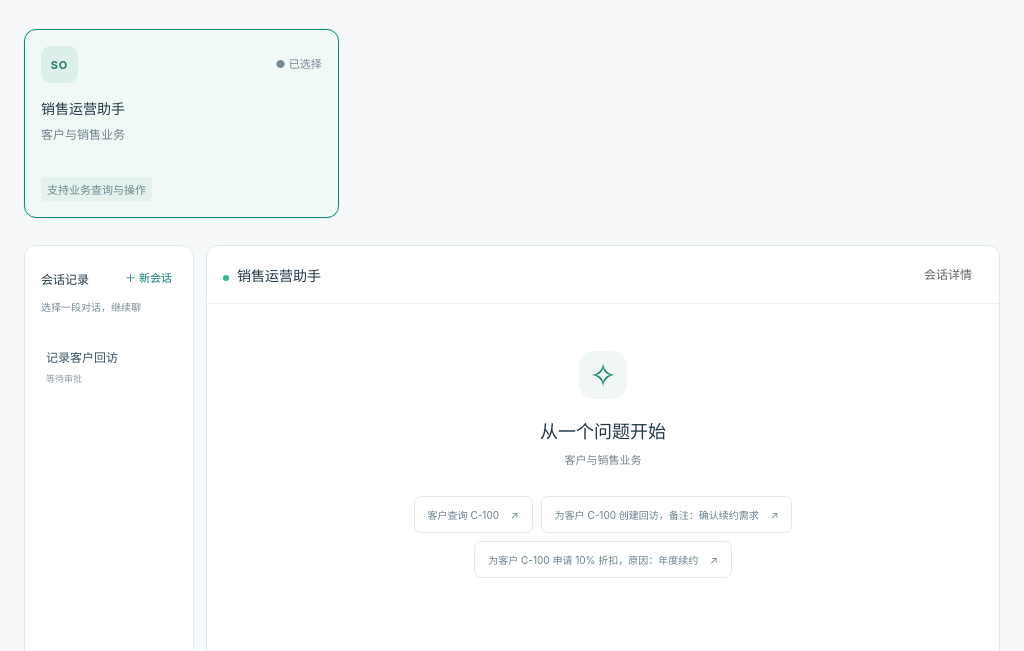
Test: does not show an execution receipt while approval is pending, even with stale result data
Click the button with class "session-item".
click(109, 367)  # box [25,334,193,399]
(page scrolled)
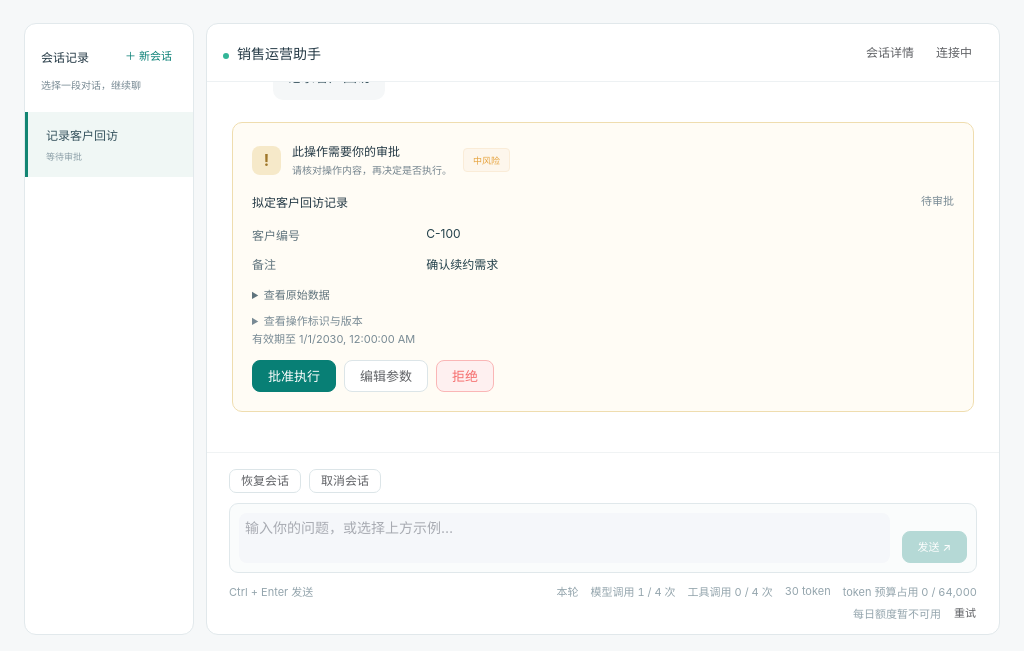
Expected: the element named "审批请求" shows "需要你的审批", [292,144,400,159]
